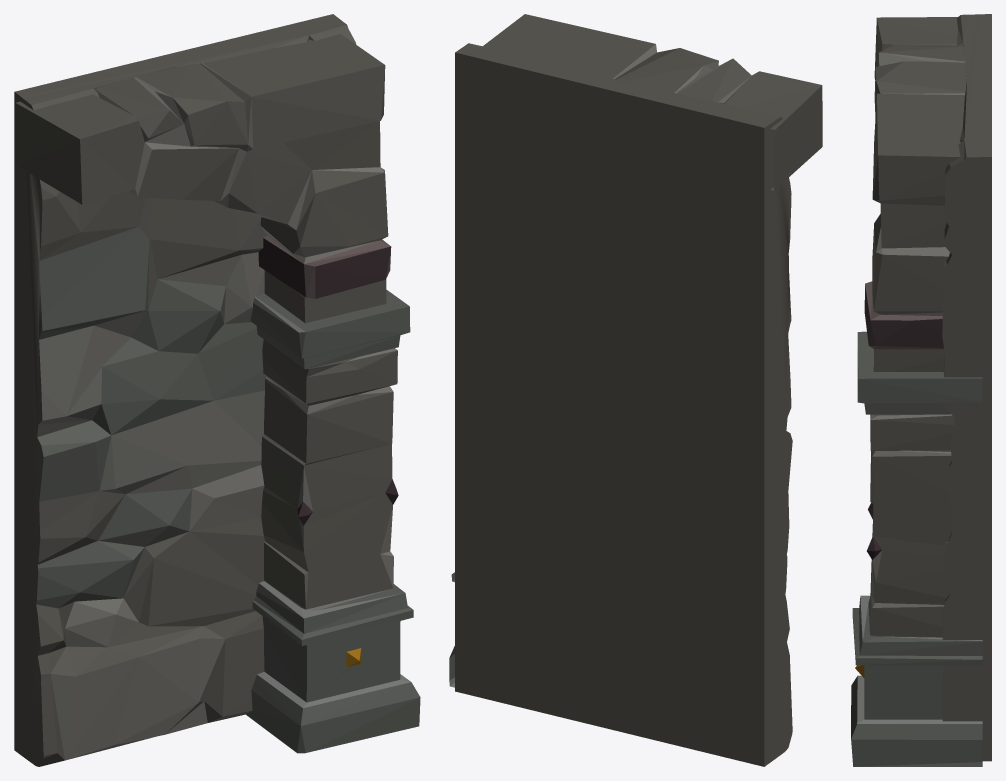
File: MDungeons_Wals_Arched_03_Half.FBX
3 views of the same model, side by side, from view 1: azimuth 30°, elevation 25°; view 2: azimuth 150°, elevation 25°; view 3: azimuth 270°, elevation 25° (orthographic). The views are drawn at different scales.
Parts seen in each view (by area): view 1: MDungeons_Wals_Arched_03_Half_LOD0; view 2: MDungeons_Wals_Arched_03_Half_LOD0; view 3: MDungeons_Wals_Arched_03_Half_LOD0.
Part boxes in pixels (x1,y1,x2,y2): MDungeons_Wals_Arched_03_Half_LOD0: (14, 14, 420, 766); MDungeons_Wals_Arched_03_Half_LOD0: (449, 14, 822, 766); MDungeons_Wals_Arched_03_Half_LOD0: (851, 14, 991, 766).
Size of what is drawn, in the model's own units: 3.17 by 6.01 by 1.26.
